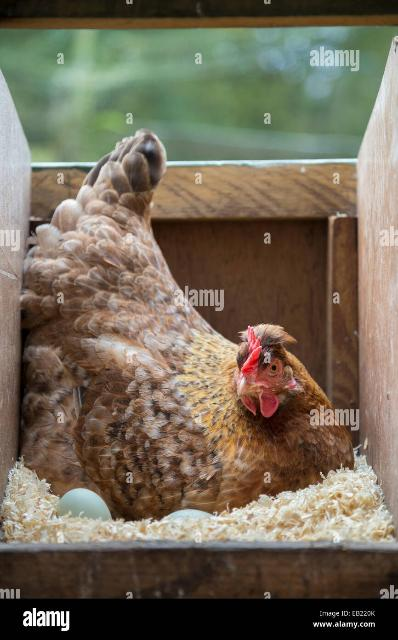Chicken: (23, 129, 359, 520)
